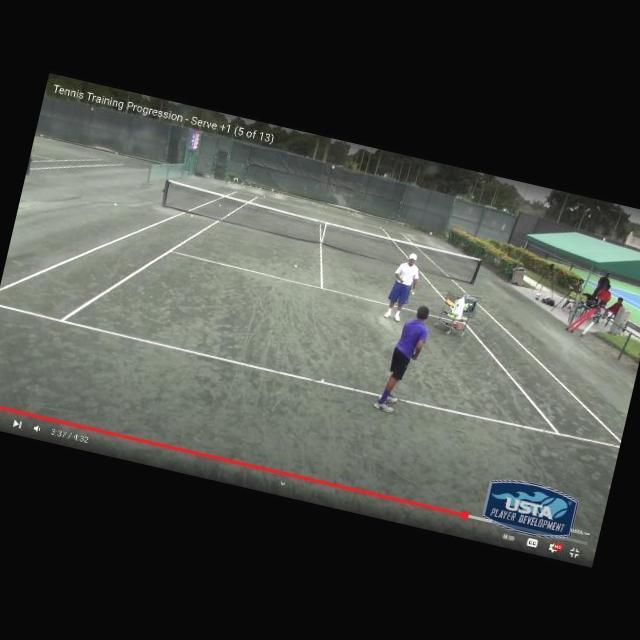tennis-ball: (113, 202, 117, 206), (410, 292, 414, 296), (293, 264, 296, 267)
